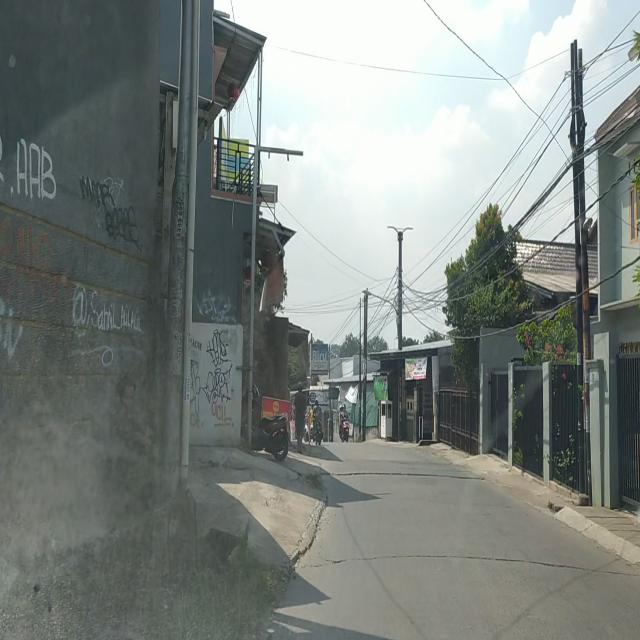Sewer Cover: (316, 557, 617, 575)
